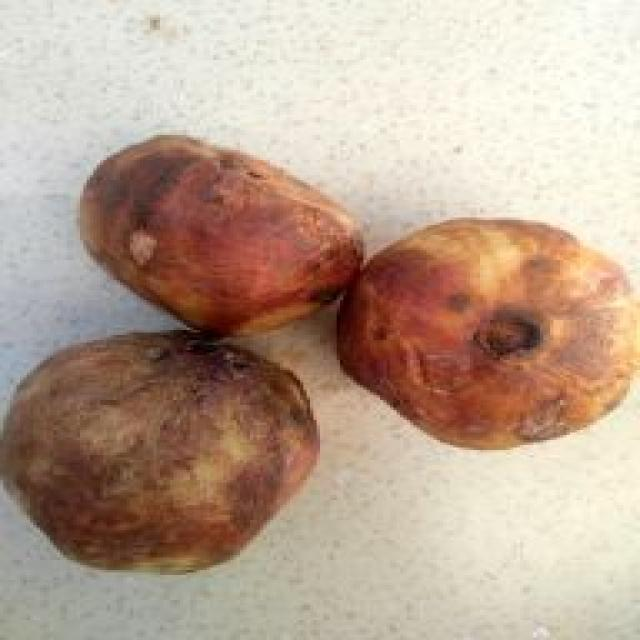Bad_Guava: (5, 331, 317, 571), (338, 219, 638, 448)
